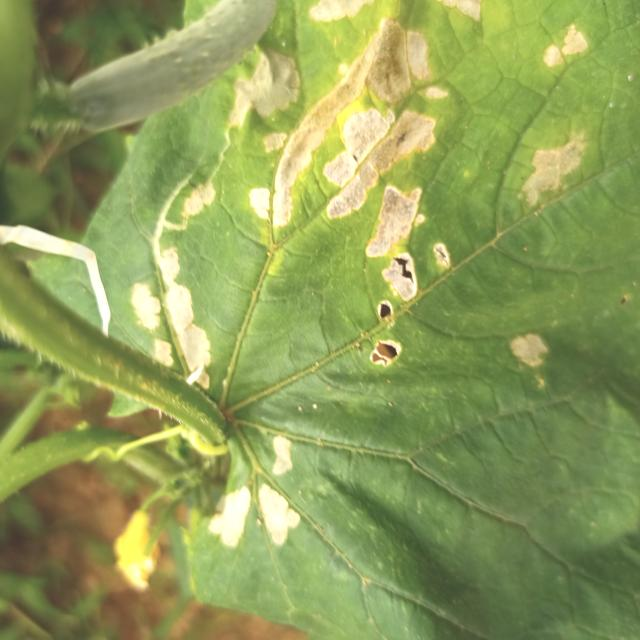disease_cucumber: (132, 0, 587, 389), (207, 434, 299, 550)
